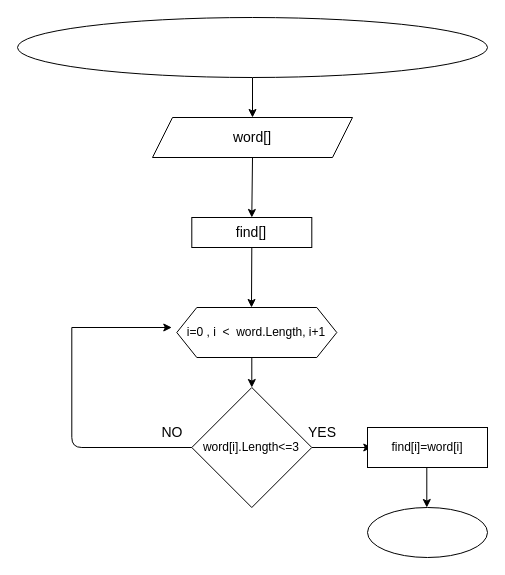
Image size: 505x575. Some labels were removed from this diagram. The shapes that lost their labels are listed below. From the top down, each one's centre as x and y in pixels, then its label:
At [252,47]: "Start FindElementsLessCharacters".
At [427,532]: "End".
